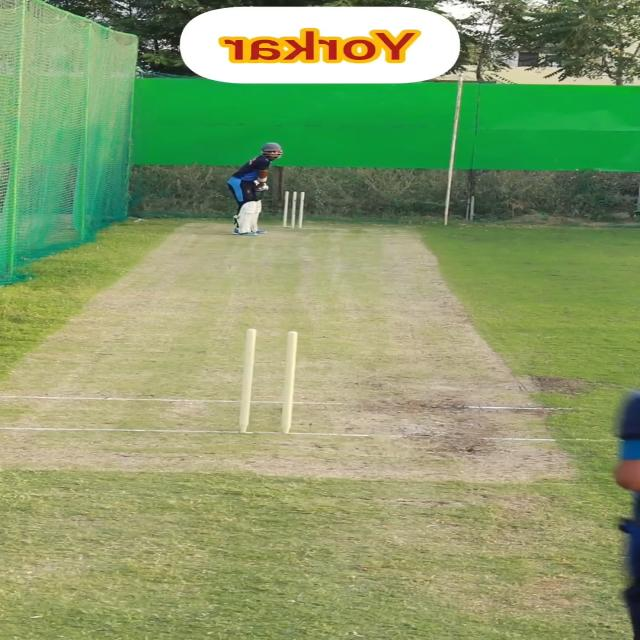stump: (236, 328, 300, 434), (280, 191, 307, 229)
